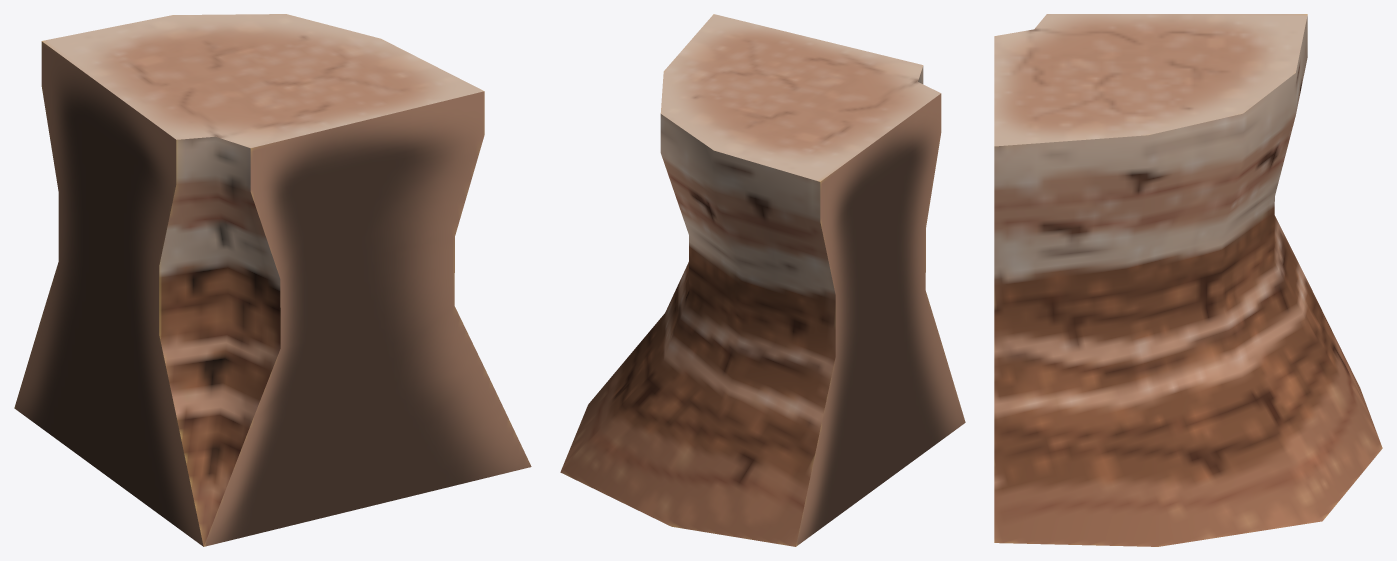
The model's file is Tile_2_Cor.fbx.
The picture shows the model from 3 angles, left to right: view 1: azimuth 30°, elevation 25°; view 2: azimuth 150°, elevation 25°; view 3: azimuth 270°, elevation 25°; orthographic projection. The views are drawn at different scales.
Visible parts, largest first — view 1: 2_Cor; view 2: 2_Cor; view 3: 2_Cor.
Boxes of the visible parts, x1,y1,x2,y2 form: 2_Cor: (14,14,531,546); 2_Cor: (560,14,965,546); 2_Cor: (994,14,1382,546).
Bounding box in the file's own units: 3.08 × 3.38 × 3.18.
